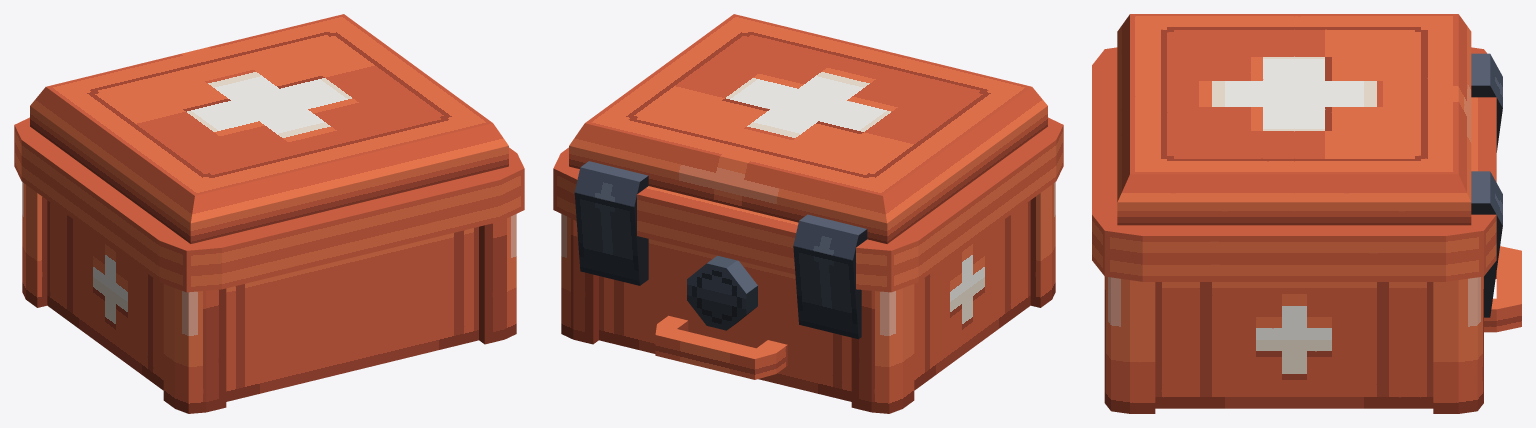
File: medical-kit.gltf
3 views of the same model, side by side, from view 1: azimuth 30°, elevation 25°; view 2: azimuth 150°, elevation 25°; view 3: azimuth 270°, elevation 25° (orthographic). The views are drawn at different scales.
Parts seen in each view (by area): view 1: cube (×7); view 2: cube (×11); view 3: cube (×9).
Part boxes in pixels (box(x1,y1,x2,y2)): cube (×7): box(14, 14, 524, 413); cube (×11): box(553, 14, 1063, 413); cube (×9): box(1092, 14, 1521, 413).
Bounding box in the file's own units: 1.12 × 0.625 × 1.06.
1 material, 1 textured.
